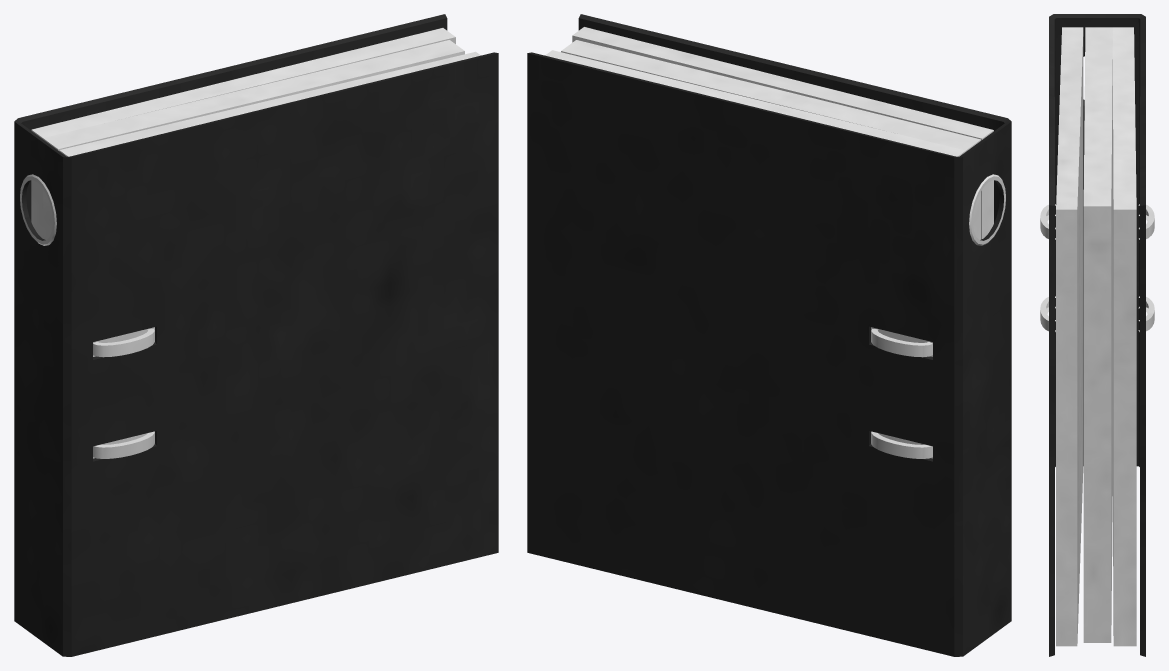
The model's file is folder black.fbx.
3 views of the same model, side by side, from view 1: azimuth 30°, elevation 25°; view 2: azimuth 150°, elevation 25°; view 3: azimuth 270°, elevation 25° (orthographic). The views are drawn at different scales.
Visible parts, largest first — view 1: folder_black; view 2: folder_black; view 3: folder_black.
Boxes of the visible parts, <box> form: folder_black: <box>14,14,498,656</box>; folder_black: <box>527,14,1011,656</box>; folder_black: <box>1040,14,1154,656</box>.
Size of the model in its own units: 30.46 by 33.46 by 7.69.
